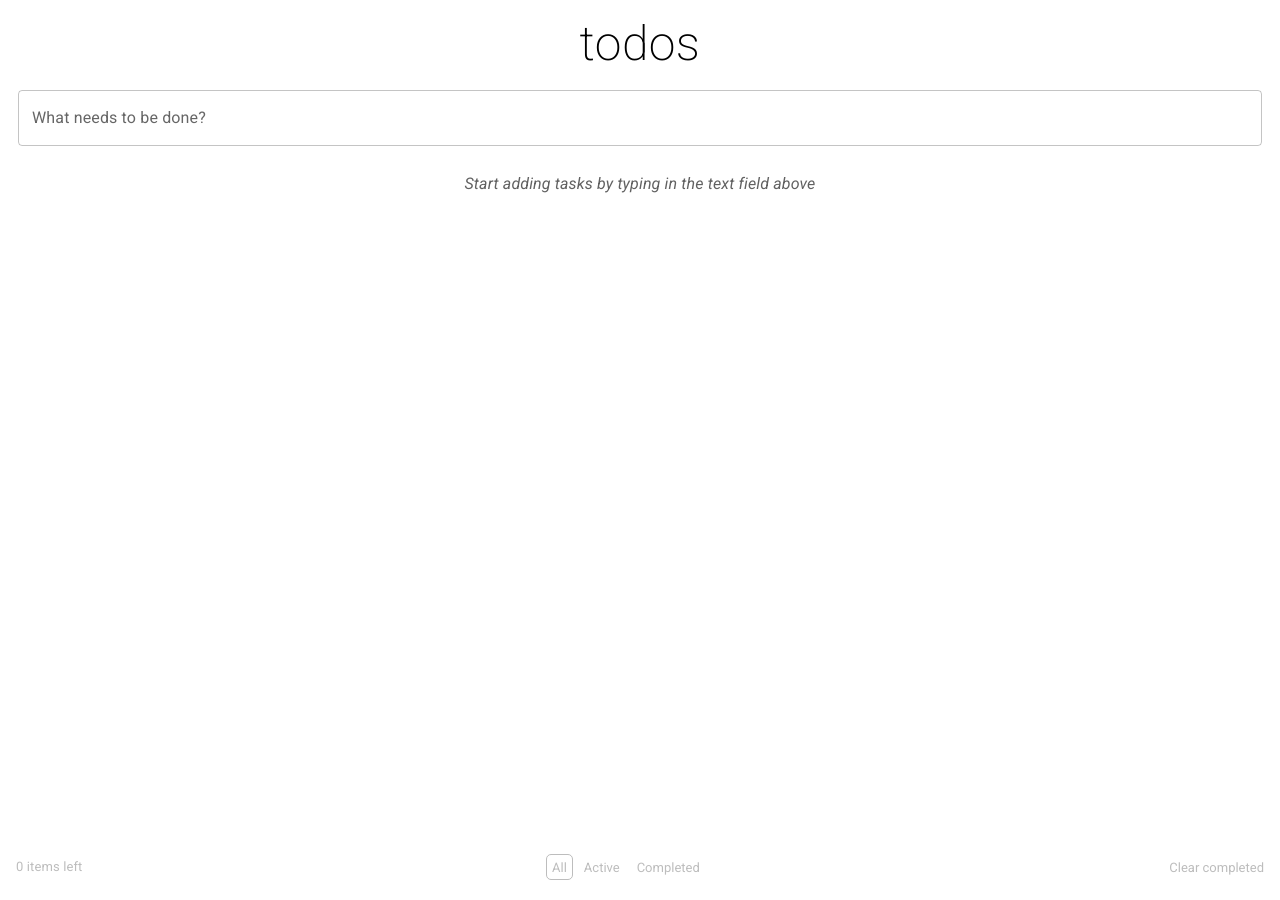
Test case: App › добавляет новую задачу
The width and height of the screenshot is (1280, 900).
Type "New Task" into the field labelled "What needs to be done?" at (640, 118), box [18,90,1262,146]
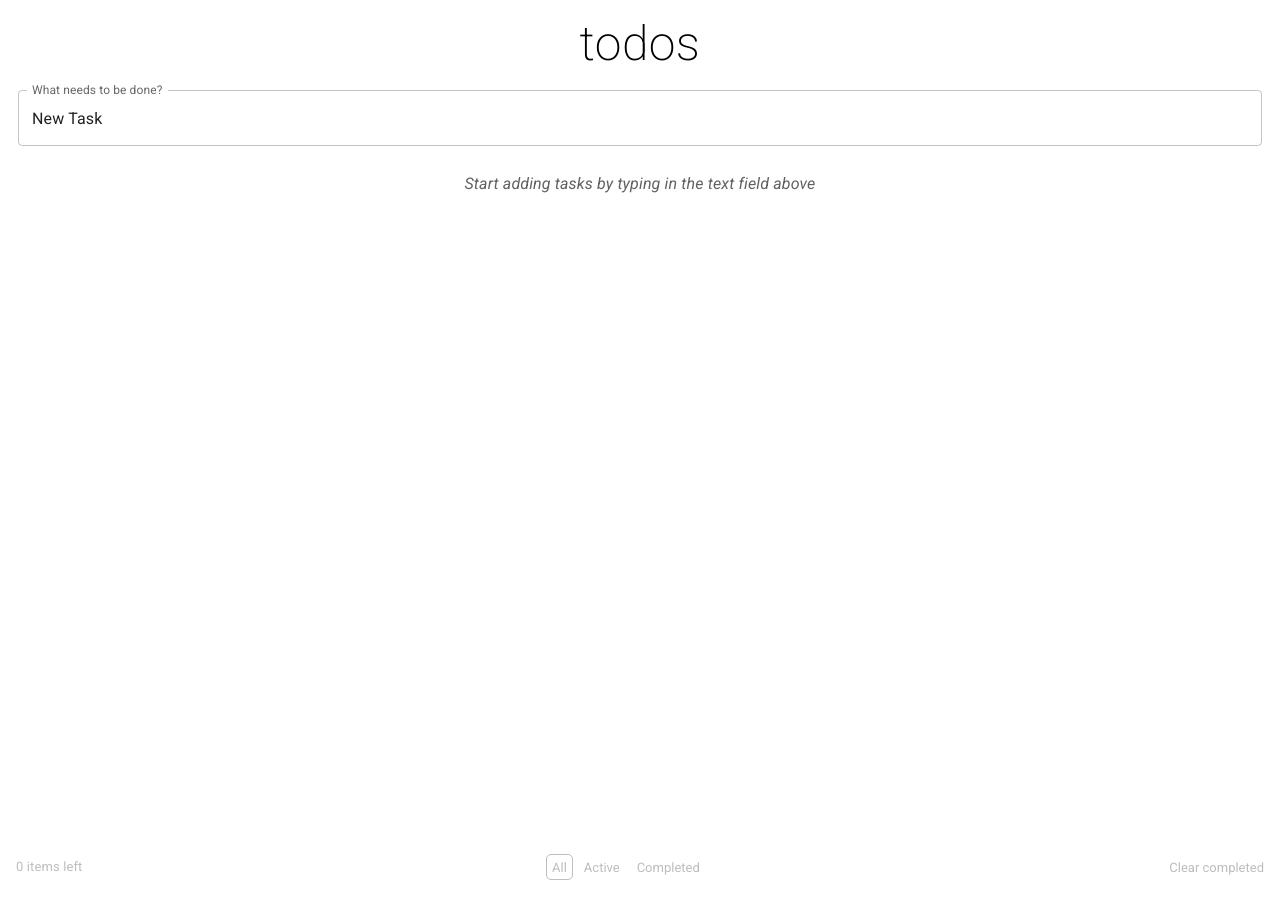
Press Enter in the field labelled "What needs to be done?", box [18,90,1262,146]
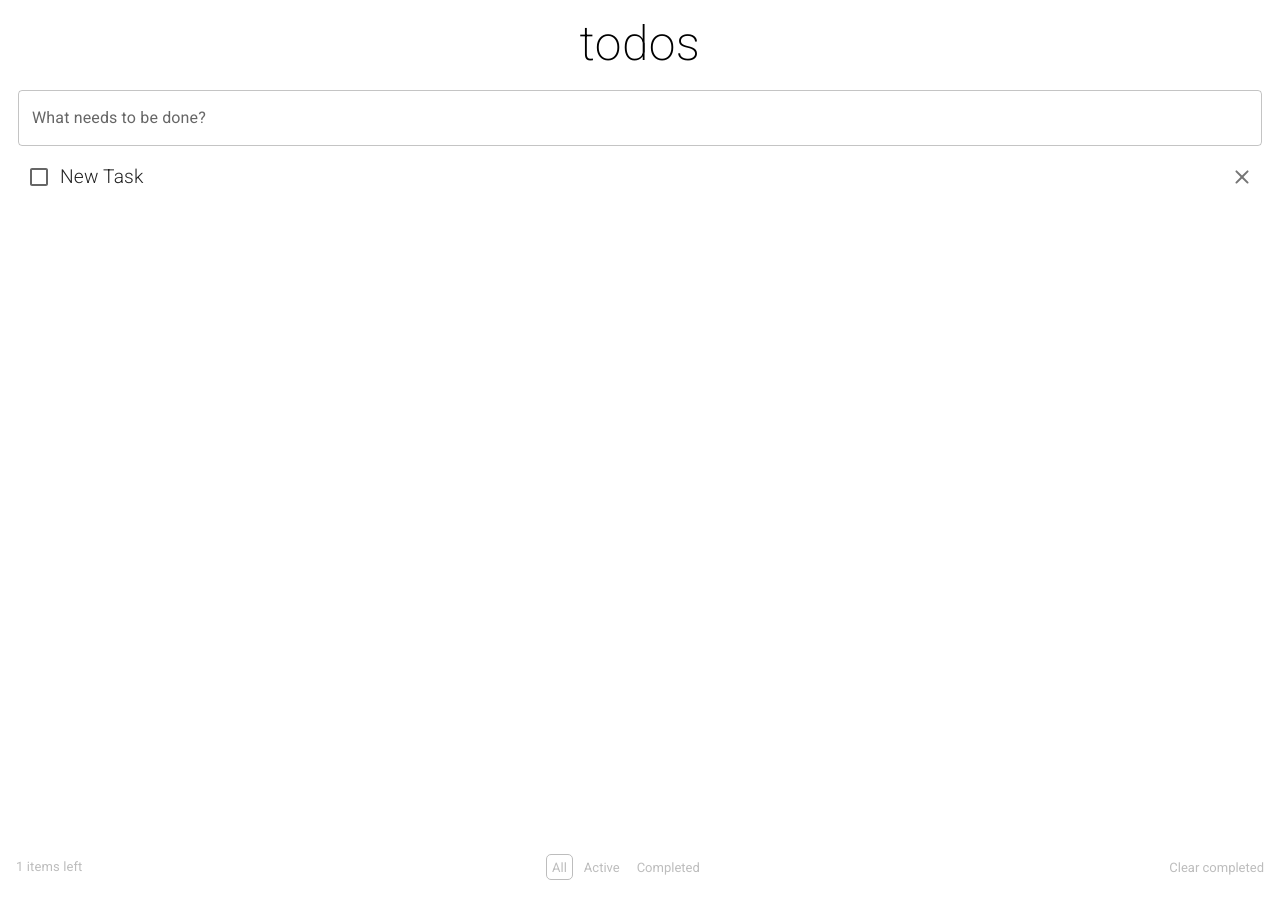
Expected: the text "New Task" is shown, [60,165,144,188]
